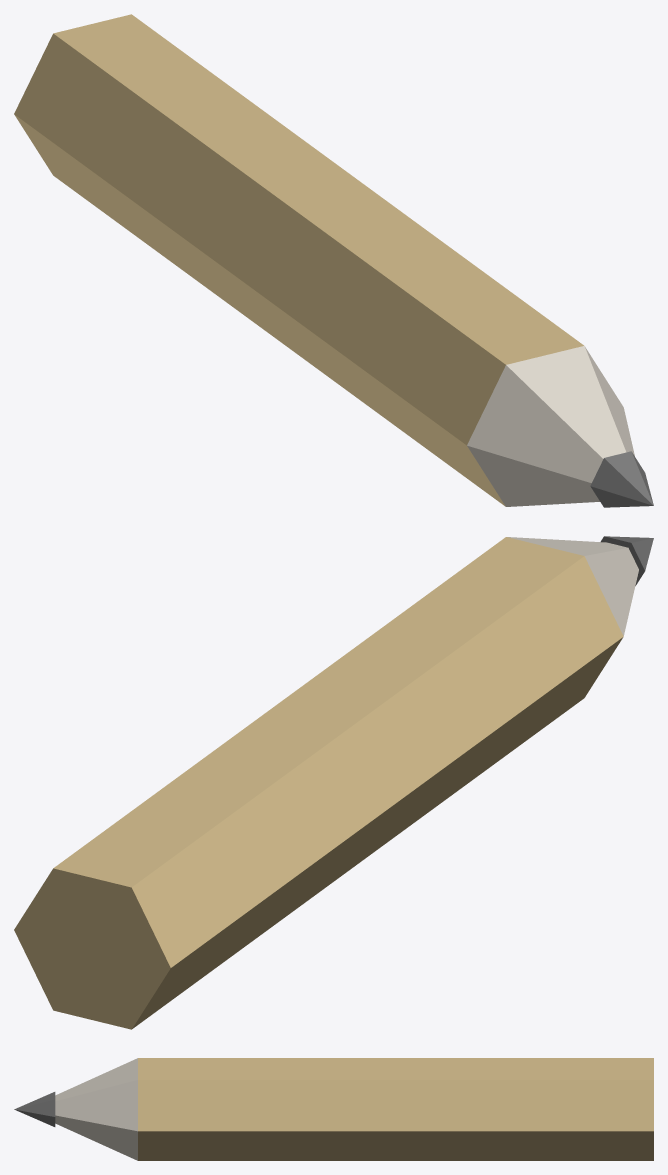
The model's file is pencil.glb.
3 views of the same model, one above another, from view 1: azimuth 30°, elevation 25°; view 2: azimuth 150°, elevation 25°; view 3: azimuth 270°, elevation 25° (orthographic). The views are drawn at different scales.
Visible parts, largest first — view 1: geometry_0; view 2: geometry_0; view 3: geometry_0.
Part boxes in pixels (x1,y1,x2,y2): geometry_0: (14,14,653,507); geometry_0: (14,536,653,1029); geometry_0: (14,1058,653,1160).
Size of the model in its own units: 0.1 by 0.0866 by 0.62.
